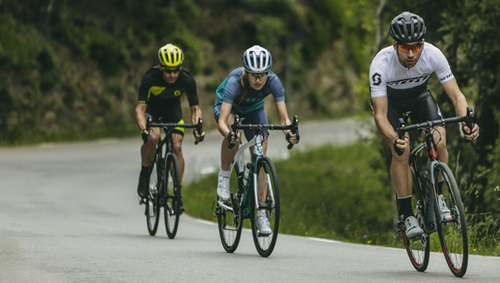bikerider: (363, 8, 485, 283), (208, 39, 304, 261), (124, 39, 206, 245)
